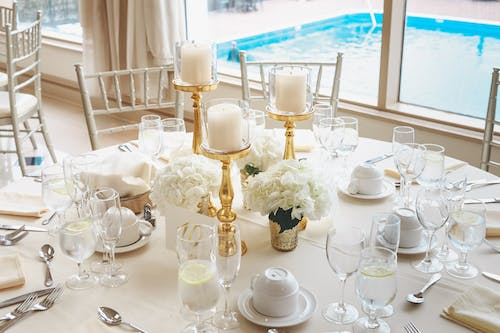knife: (0, 284, 63, 310), (362, 145, 413, 165), (0, 218, 49, 234), (459, 196, 500, 205), (480, 268, 500, 284)
